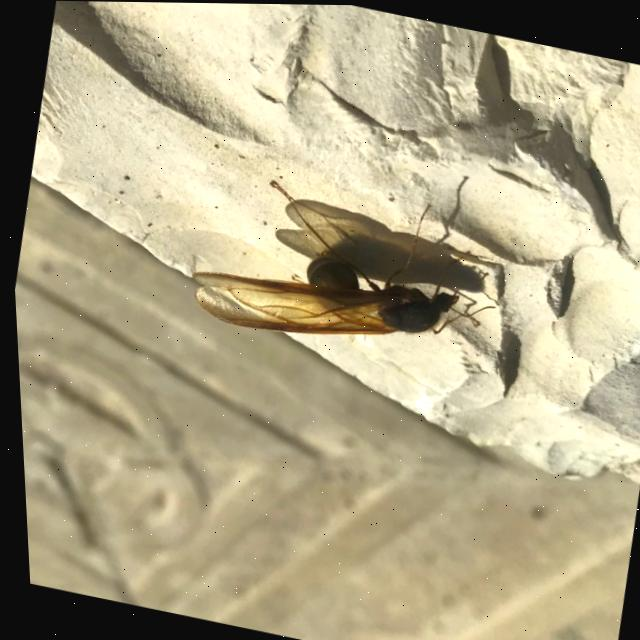Alive-Male-Alate: (182, 159, 513, 376)
